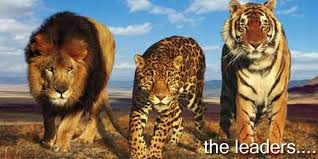lion: (19, 11, 121, 150)
tiger: (218, 1, 301, 142)
